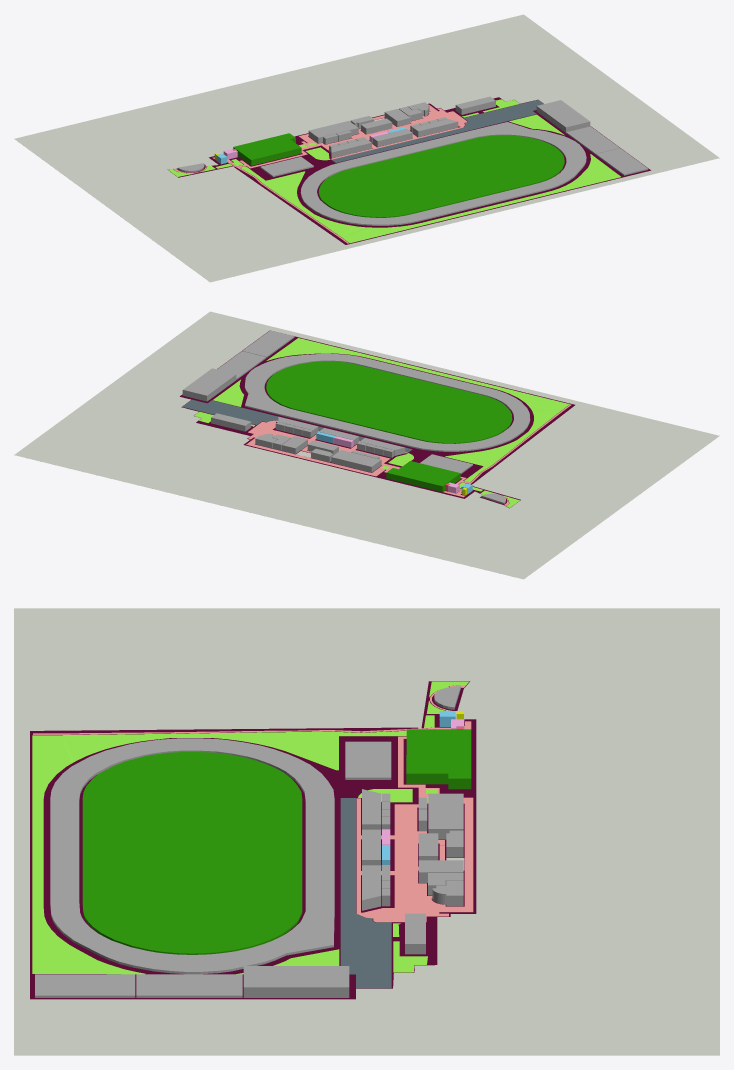
File: njc-b3-v2-31-3.glb
The picture shows the model from 3 angles, top to bottom: view 1: azimuth 30°, elevation 25°; view 2: azimuth 150°, elevation 25°; view 3: azimuth 270°, elevation 25°; orthographic projection. The views are drawn at different scales.
Visible parts, largest first — view 1: Grey, Field, Track, Object.001, Grass, Base, Foot, Drive, Object, ISH, Object.002; view 2: Grey, Field, Track, Object.001, Base, Grass, Foot, Object, ISH, Drive, Object.002; view 3: Grey, Field, Track, Base, Grass, Object.001, Foot, Drive, Object, ISH, Object.002.
Boxes of the visible parts, box(x1,y1,x2,y2) form: Grey: box(14, 14, 719, 282); Field: box(318, 135, 564, 217); Track: box(300, 122, 586, 225); Object.001: box(308, 96, 590, 158); Grass: box(167, 99, 620, 243); Base: box(168, 97, 650, 244); Foot: box(173, 104, 467, 243); Drive: box(332, 100, 543, 162); Object: box(566, 126, 648, 175); ISH: box(233, 133, 301, 165); Object.002: box(260, 156, 313, 176); Grey: box(14, 311, 719, 579); Field: box(266, 361, 512, 443); Track: box(244, 353, 530, 451); Object.001: box(182, 368, 405, 472); Base: box(180, 330, 574, 508); Grass: box(194, 338, 569, 507); Foot: box(246, 404, 571, 505); Object: box(217, 330, 294, 379); ISH: box(386, 461, 460, 492); Drive: box(182, 399, 412, 452); Object.002: box(420, 454, 472, 473); Grey: box(14, 608, 719, 1055); Field: box(82, 752, 302, 954); Track: box(50, 738, 334, 974); Base: box(30, 681, 476, 999); Grass: box(32, 681, 468, 974); Object.001: box(243, 789, 463, 997); Foot: box(33, 685, 473, 922); Drive: box(340, 798, 391, 988); Object: box(35, 974, 242, 997); ISH: box(406, 729, 471, 789); Object.002: box(345, 741, 391, 779).
Bounding box in the file's own units: 18 × 0.205 × 12.
